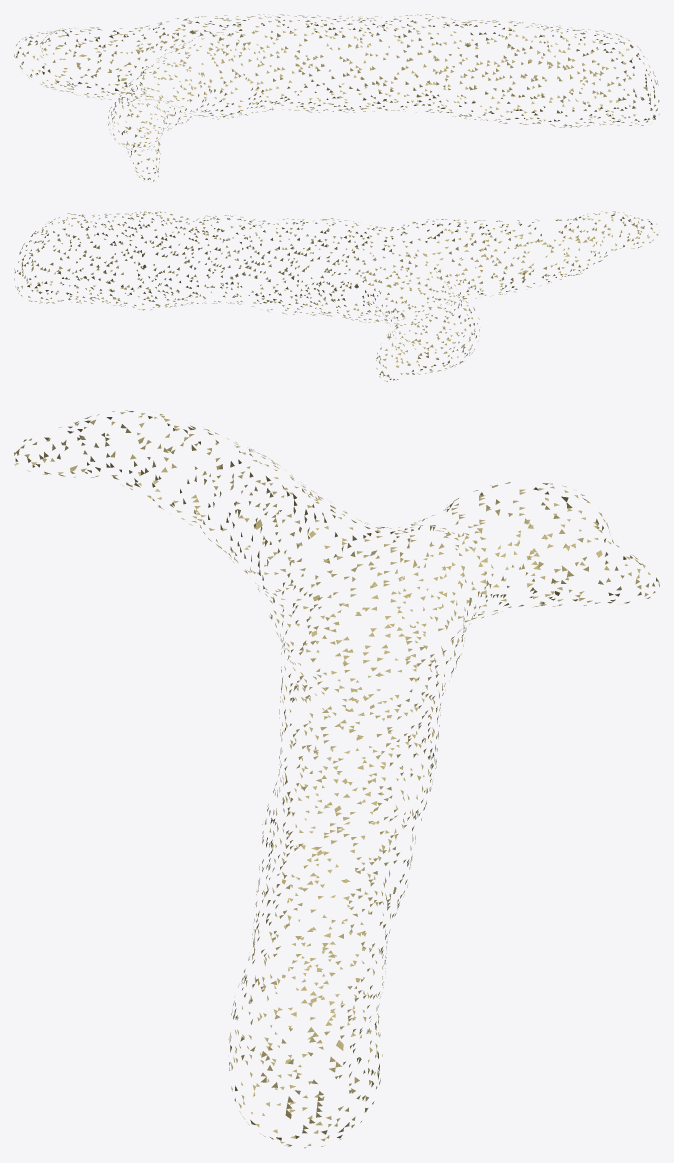
The model's file is morph_008.glb.
3 renders of one model, top to bottom at view 1: azimuth 30°, elevation 25°; view 2: azimuth 150°, elevation 25°; view 3: azimuth 270°, elevation 25°, orthographic. The views are drawn at different scales.
Bounding box in the file's own units: 122 × 37.25 × 71.35.
